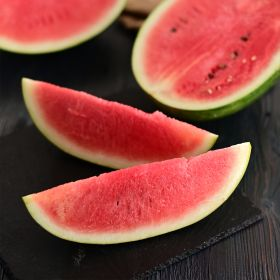Semangka: (34, 149, 252, 236), (17, 91, 212, 151)
